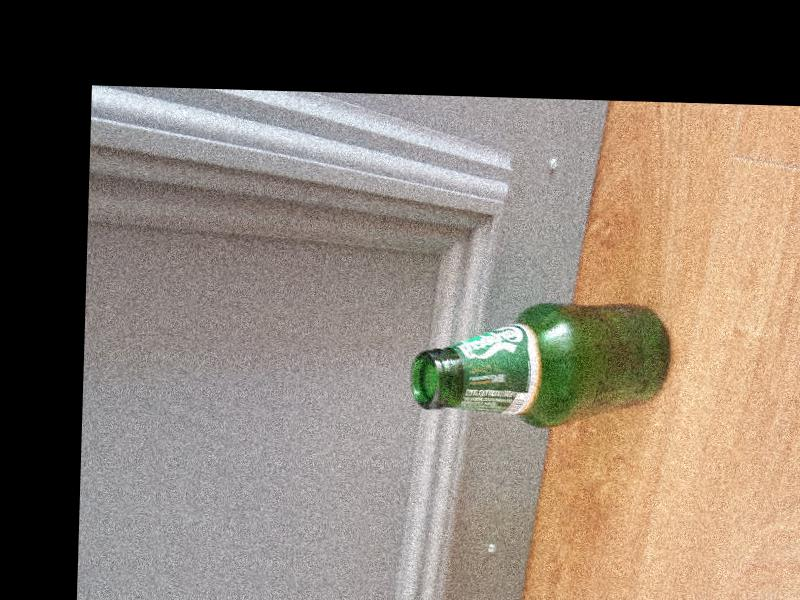Beer: (410, 296, 672, 432)
